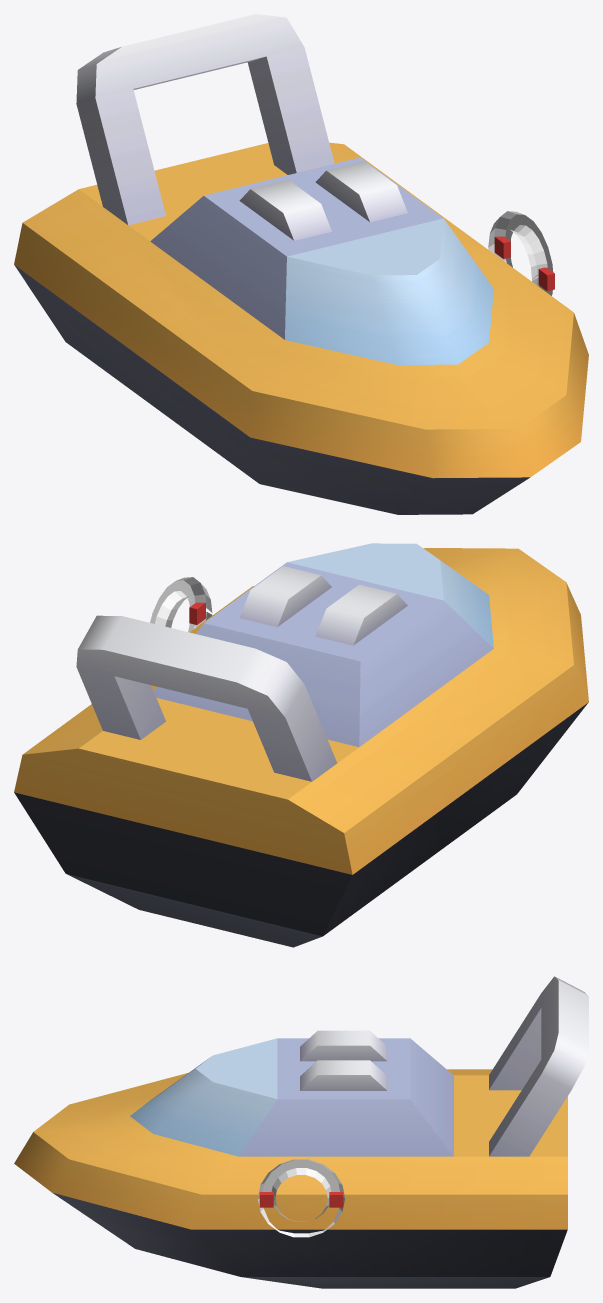
Rendered from raddningsbat.glb.
The picture shows the model from 3 angles, top to bottom: view 1: azimuth 30°, elevation 25°; view 2: azimuth 150°, elevation 25°; view 3: azimuth 270°, elevation 25°; orthographic projection. The views are drawn at different scales.
Visible parts, largest first — view 1: boat-speed-b, till-raddningsbat; view 2: boat-speed-b, till-raddningsbat; view 3: boat-speed-b, till-raddningsbat.
Boxes of the visible parts, x1,y1,x2,y2 form: boat-speed-b: (14,14,588,514); till-raddningsbat: (488,211,554,295); boat-speed-b: (14,543,588,947); till-raddningsbat: (150,577,212,632); boat-speed-b: (14,976,588,1288); till-raddningsbat: (258,1159,344,1237).
Bounding box in the file's own units: 1.84 × 1.59 × 3.29.
Materials: 3 (1 with a texture image).
